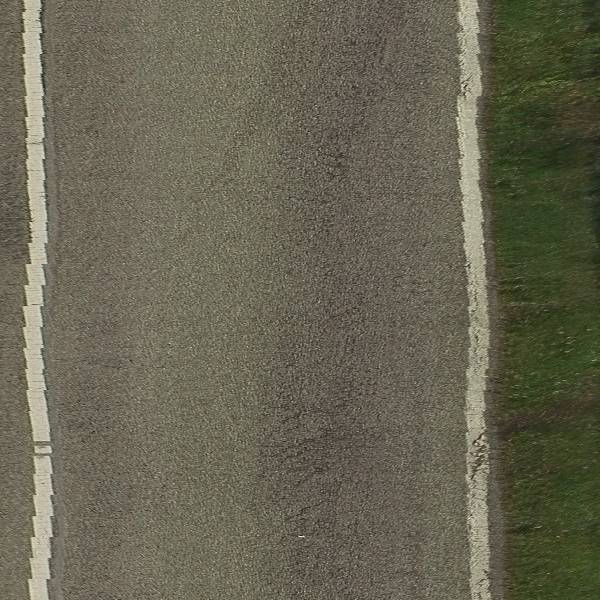road_damage: (268, 383, 346, 572), (464, 424, 492, 496)
